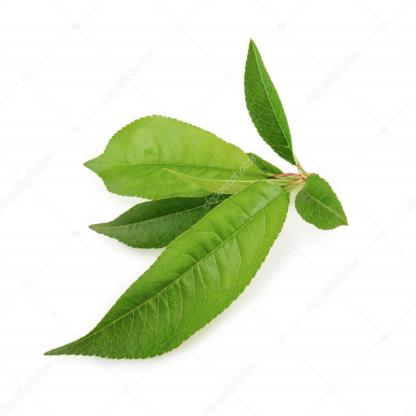peach leaf: (42, 182, 290, 370), (76, 112, 265, 202), (72, 195, 217, 253), (237, 34, 297, 164), (295, 173, 347, 233)
